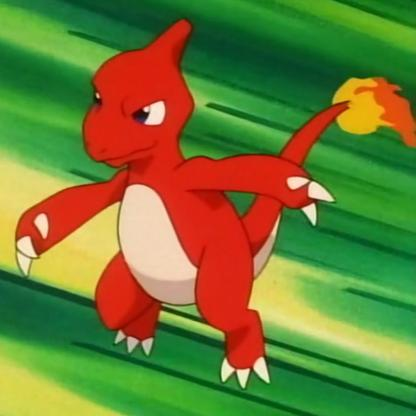Charmeleon: (13, 32, 416, 376)
